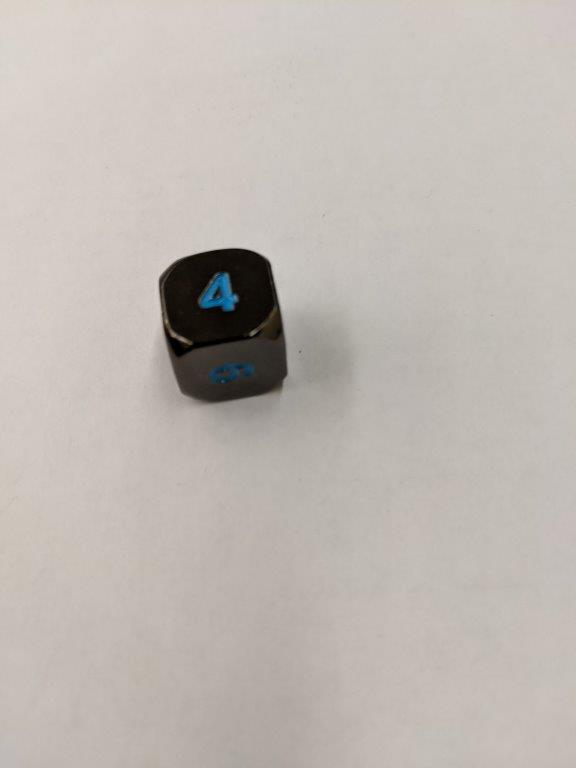d6-4: (157, 247, 290, 402)
